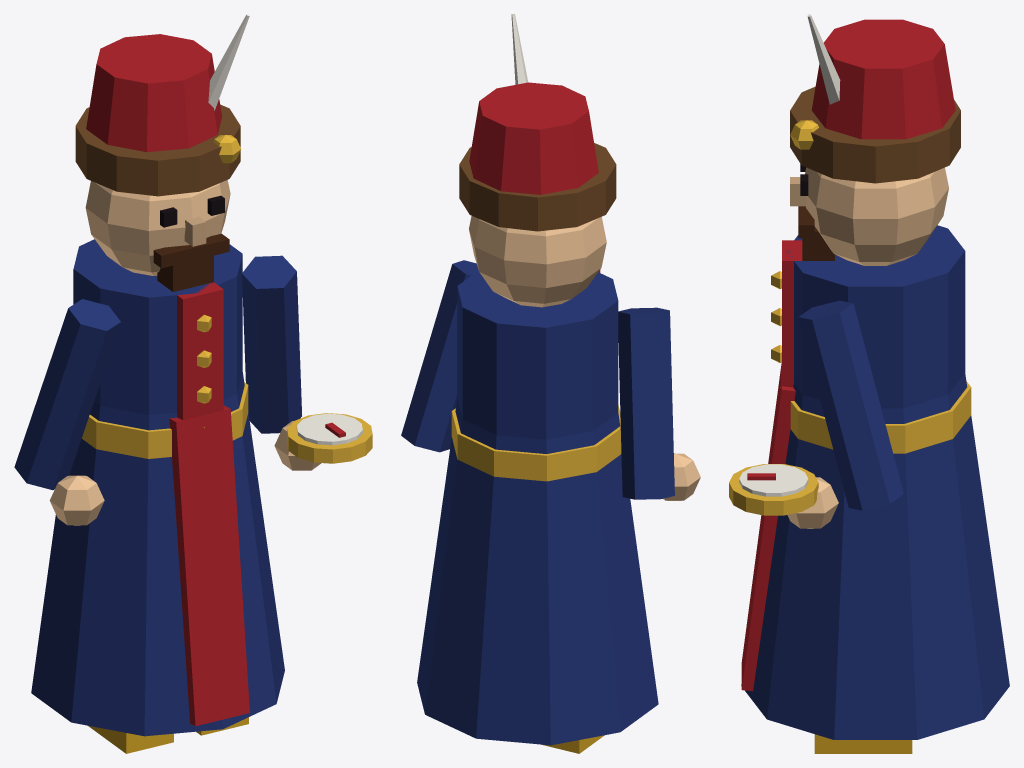
File: postac_zamoyski.glb
3 views of the same model, side by side, from view 1: azimuth 30°, elevation 25°; view 2: azimuth 150°, elevation 25°; view 3: azimuth 270°, elevation 25° (orthographic). The views are drawn at different scales.
Parts seen in each view (by area): view 1: postac_zamoyski; view 2: postac_zamoyski; view 3: postac_zamoyski.
Boxes of the visible parts, x1=… form: postac_zamoyski: x1=14, y1=14, x2=372, y2=753; postac_zamoyski: x1=401, y1=14, x2=700, y2=753; postac_zamoyski: x1=729, y1=14, x2=1009, y2=753.
Size of the model in its own units: 0.8718 by 2 by 0.69.
